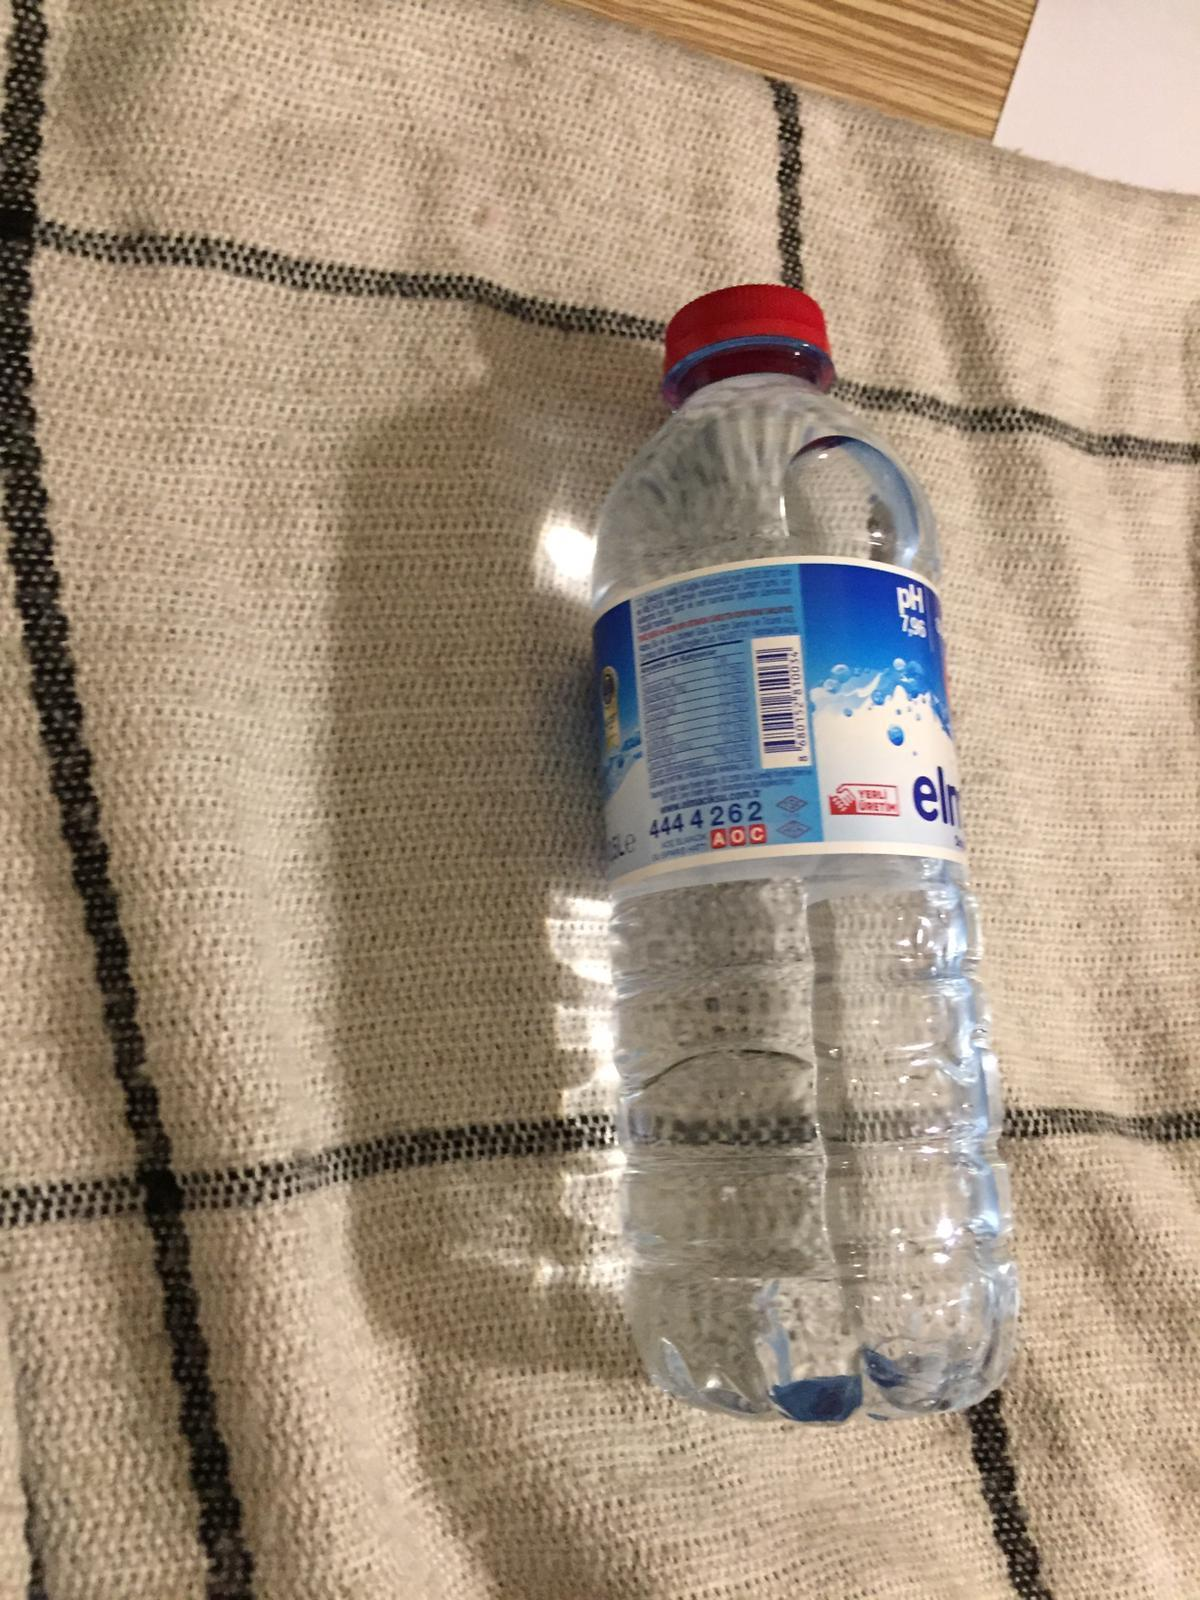bottle: (585, 281, 1021, 1427)
